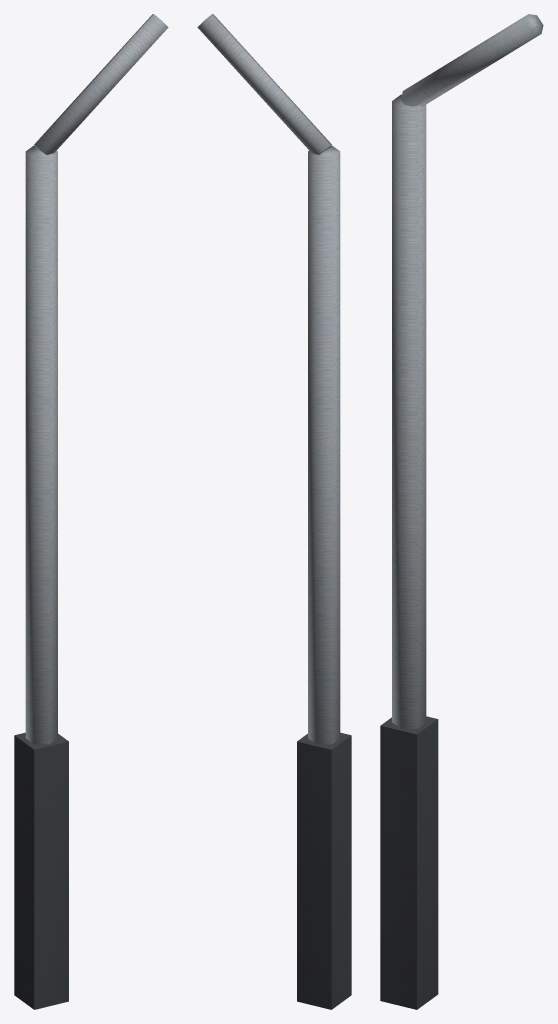
File: street-fence-end_mobile.glb
The picture shows the model from 3 angles, left to right: view 1: azimuth 30°, elevation 25°; view 2: azimuth 150°, elevation 25°; view 3: azimuth 330°, elevation 25°; orthographic projection. The views are drawn at different scales.
Parts seen in each view (by area): view 1: galvanised, dark-steel; view 2: galvanised, dark-steel; view 3: galvanised, dark-steel.
Boxes of the visible parts, bbox=[...] form: galvanised: bbox=[25, 14, 168, 744]; dark-steel: bbox=[14, 732, 68, 1009]; galvanised: bbox=[197, 14, 340, 744]; dark-steel: bbox=[297, 732, 351, 1009]; galvanised: bbox=[392, 14, 543, 728]; dark-steel: bbox=[380, 716, 438, 1009].
Size of the model in its own units: 0.6586 by 4.23 by 0.16.
2 materials, 2 textured.
